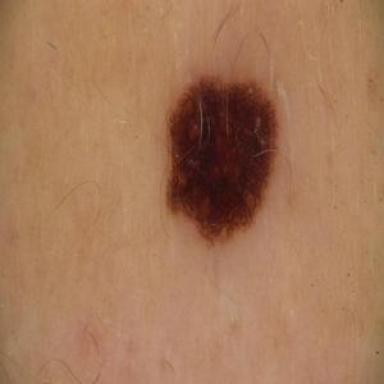Melanoma: (167, 76, 279, 243)
